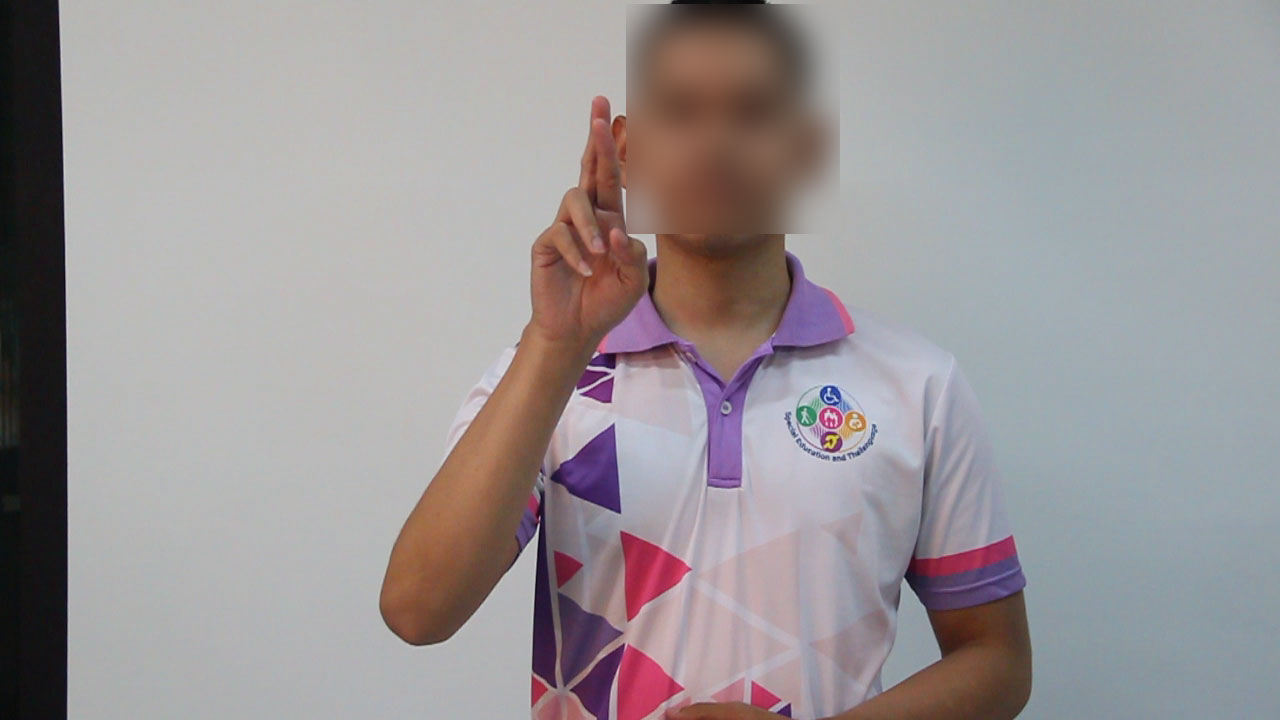rao: (516, 84, 662, 364)
